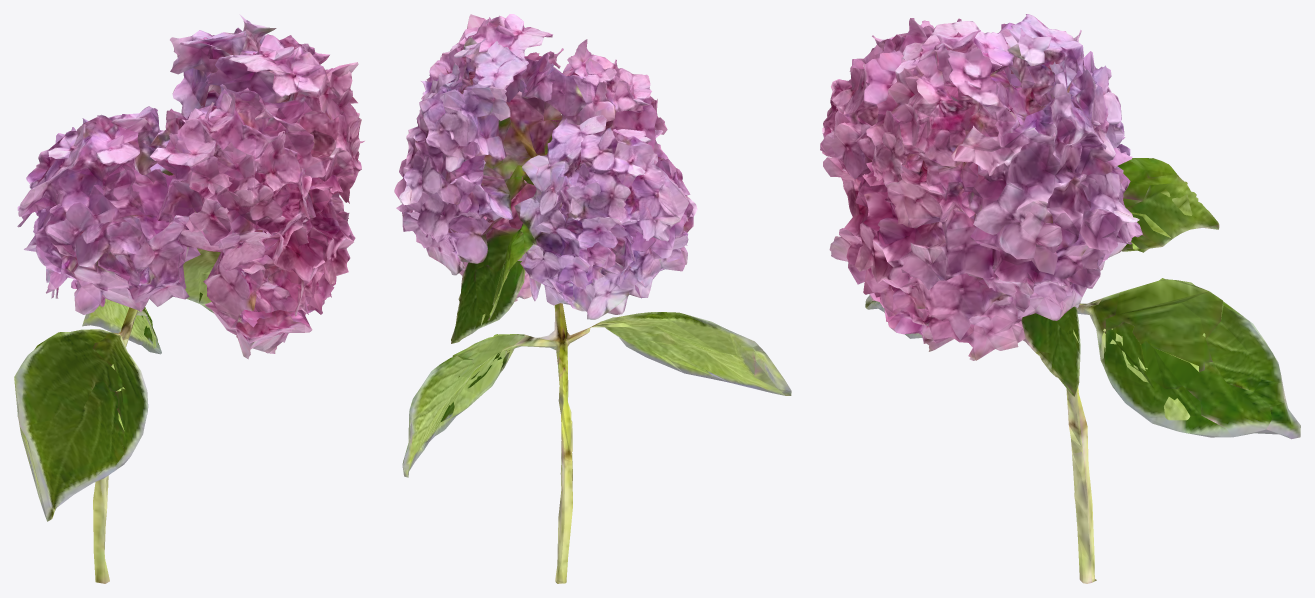
The model's file is ortanca.glb.
3 renders of one model, left to right at view 1: azimuth 30°, elevation 25°; view 2: azimuth 150°, elevation 25°; view 3: azimuth 270°, elevation 25°, orthographic. The views are drawn at different scales.
Visible parts, largest first — view 1: Object_2; view 2: Object_2; view 3: Object_2.
Boxes of the visible parts, <box> form: Object_2: <box>14,14,364,583</box>; Object_2: <box>394,14,791,583</box>; Object_2: <box>820,14,1300,583</box>.
Size of the model in its own units: 0.922 by 1.37 by 0.9712.
1 material, 1 textured.
